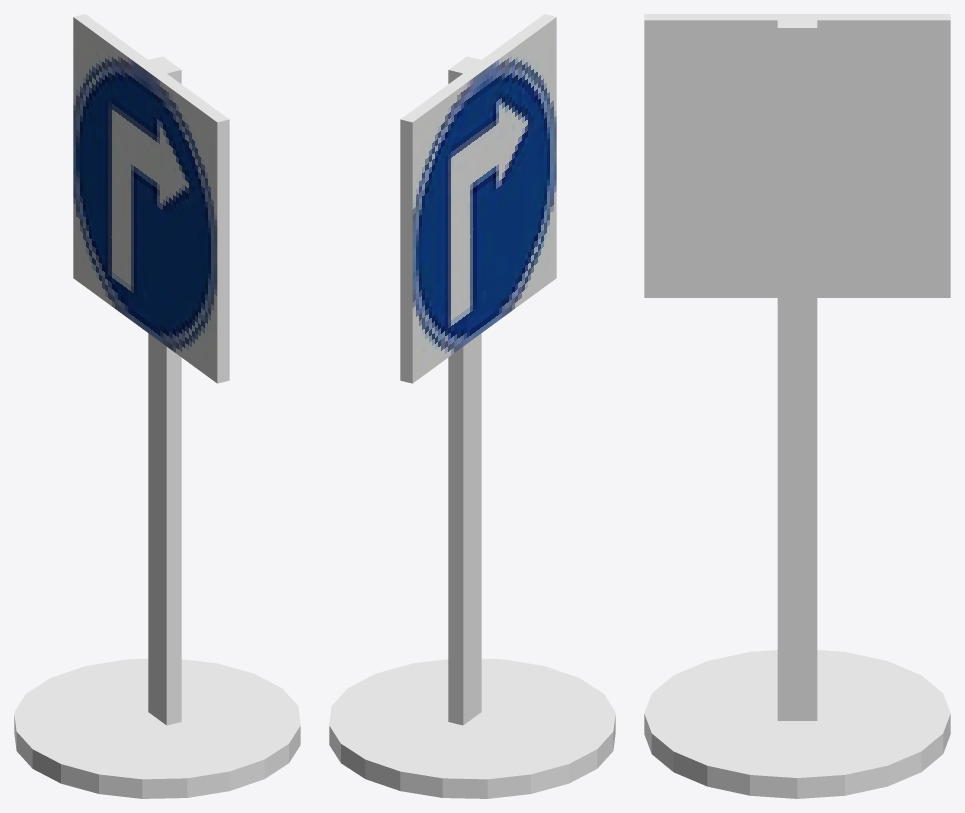
The model's file is SignRight.dae.
3 views of the same model, side by side, from view 1: azimuth 30°, elevation 25°; view 2: azimuth 150°, elevation 25°; view 3: azimuth 270°, elevation 25° (orthographic). The views are drawn at different scales.
Visible parts, largest first — view 1: SignRight; view 2: SignRight; view 3: SignRight.
Boxes of the visible parts, left/top/right/bottom form: SignRight: left=14, top=14, right=300, bottom=798; SignRight: left=329, top=14, right=615, bottom=798; SignRight: left=644, top=14, right=950, bottom=798.
Size of the model in its own units: 0.07 by 0.07 by 0.18.
